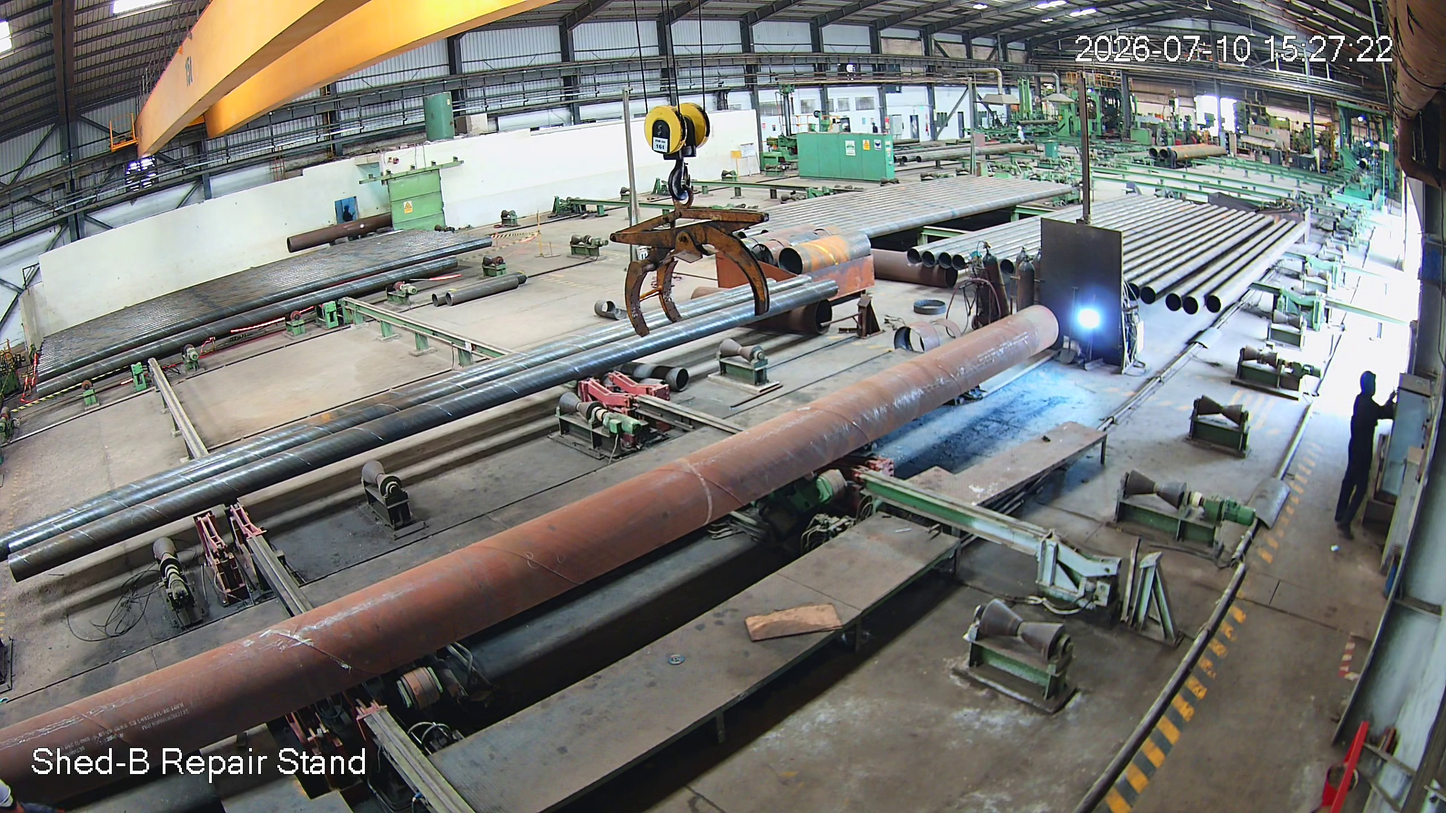Helmet: (1353, 353, 1385, 406)
Person: (1346, 362, 1388, 549)
